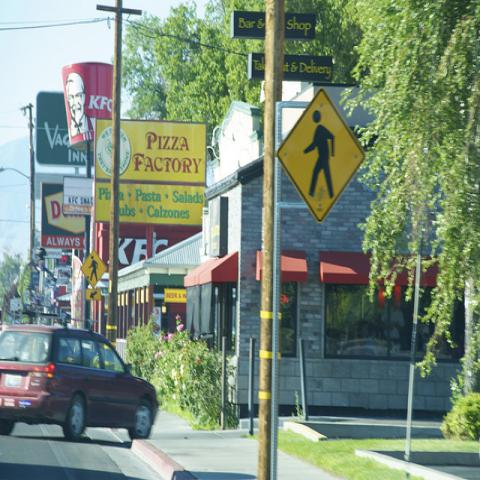car: (0, 327, 157, 438)
